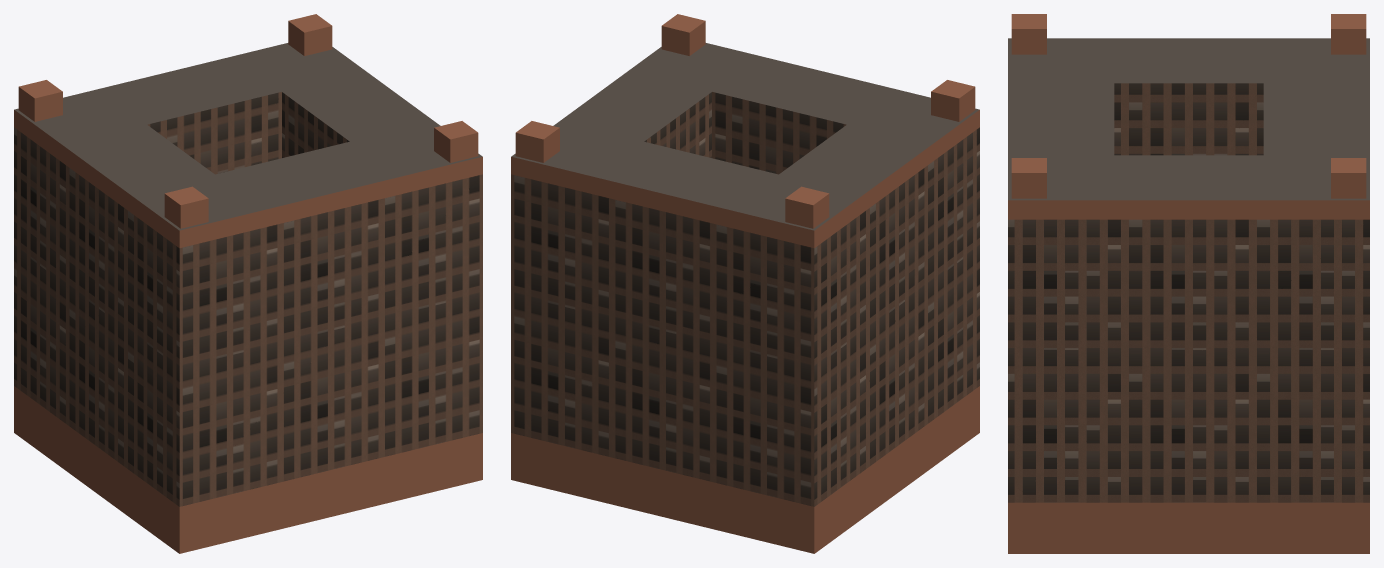
Rendered from rookery.glb.
3 renders of one model, left to right at view 1: azimuth 30°, elevation 25°; view 2: azimuth 150°, elevation 25°; view 3: azimuth 270°, elevation 25°, orthographic. The views are drawn at different scales.
Parts seen in each view (by area): view 1: rookery; view 2: rookery; view 3: rookery.
Part boxes in pixels (x1,y1,x2,y2): rookery: (14, 14, 482, 553); rookery: (511, 14, 979, 553); rookery: (1008, 14, 1369, 553).
Size of the model in its own units: 54 by 59 by 51.
2 materials, 2 textured.
